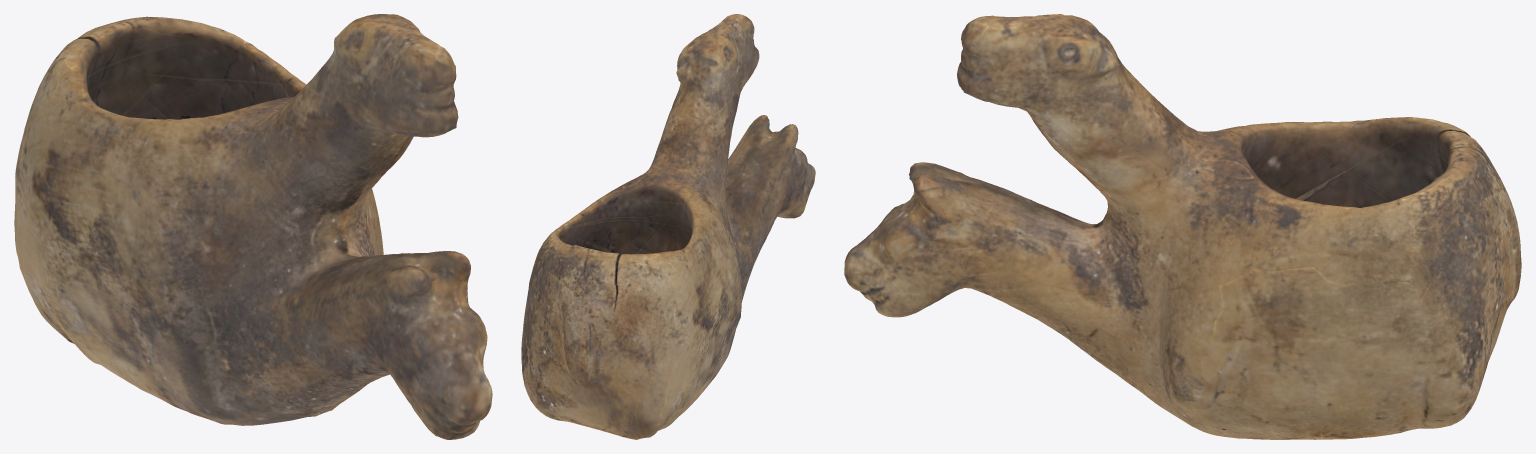
Rendered from conopa_de_estilo_inca_del_horizonte_tardio.glb.
3 views of the same model, side by side, from view 1: azimuth 30°, elevation 25°; view 2: azimuth 150°, elevation 25°; view 3: azimuth 270°, elevation 25° (orthographic). The views are drawn at different scales.
Visible parts, largest first — view 1: Model; view 2: Model; view 3: Model.
Boxes of the visible parts, <box> form: Model: <box>14,14,492,439</box>; Model: <box>521,14,815,439</box>; Model: <box>844,14,1521,439</box>.
Bounding box in the file's own units: 1.31 × 2.33 × 3.44.
Materials: 1 (1 with a texture image).
